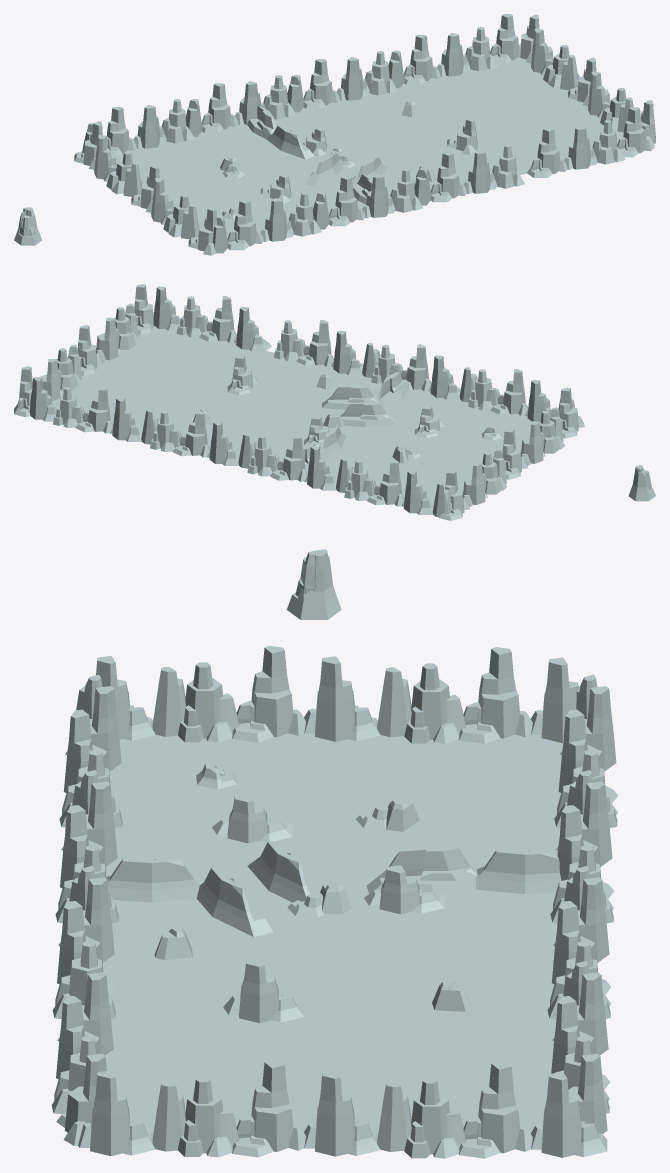
Rendered from Ground_optimize.glb.
3 renders of one model, top to bottom at view 1: azimuth 30°, elevation 25°; view 2: azimuth 150°, elevation 25°; view 3: azimuth 270°, elevation 25°, orthographic. The views are drawn at different scales.
Parts seen in each view (by area): view 1: stone, Ground; view 2: stone, Ground, stone_tallH; view 3: Ground, stone, stone_tallH.
Part boxes in pixels (x1,y1,x2,y2): stone: [74, 14, 655, 255]; Ground: [116, 57, 623, 238]; stone: [14, 284, 584, 520]; Ground: [52, 325, 531, 503]; stone_tallH: [628, 470, 655, 501]; Ground: [102, 733, 563, 1134]; stone: [51, 645, 618, 1158]; stone_tallH: [287, 555, 341, 619].
Bounding box in the file's own units: 856 × 53.39 × 367.
